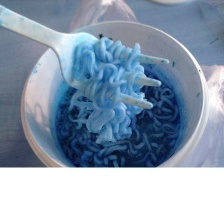paper_cup: (16, 16, 212, 167)
